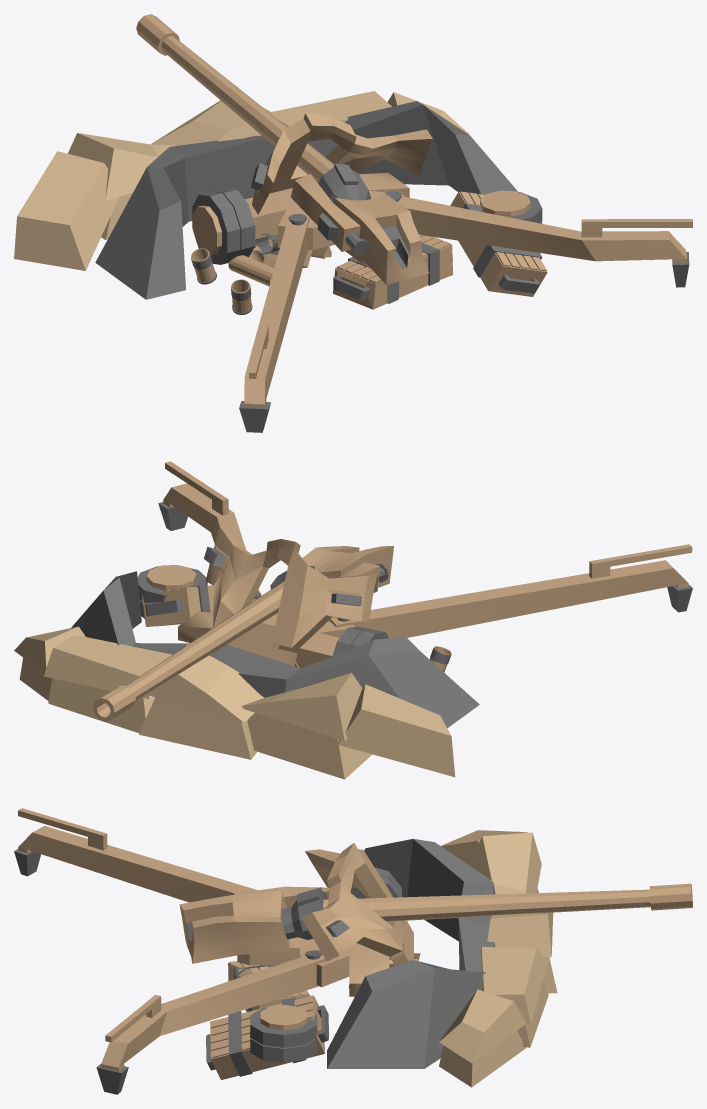
File: broken_mortairs.fbx
The picture shows the model from 3 angles, top to bottom: view 1: azimuth 30°, elevation 25°; view 2: azimuth 150°, elevation 25°; view 3: azimuth 270°, elevation 25°; orthographic projection. The views are drawn at different scales.
Visible parts, largest first — view 1: mortar_broken_t3, mortar_broken_t2, mortar_broken_t1; view 2: mortar_broken_t3, mortar_broken_t1, mortar_broken_t2; view 3: mortar_broken_t3, mortar_broken_t2, mortar_broken_t1.
Part boxes in pixels (x1,y1,x2,y2): mortar_broken_t3: (136,14,692,432); mortar_broken_t2: (95,101,547,314); mortar_broken_t1: (14,91,468,284); mortar_broken_t3: (92,461,692,721); mortar_broken_t1: (14,626,455,779); mortar_broken_t2: (71,571,479,727); mortar_broken_t3: (14,808,692,1094); mortar_broken_t2: (206,839,495,1079); mortar_broken_t1: (389,830,557,1087).
Size of the model in its own units: 621 by 205 by 768.
4 materials, 4 textured.
